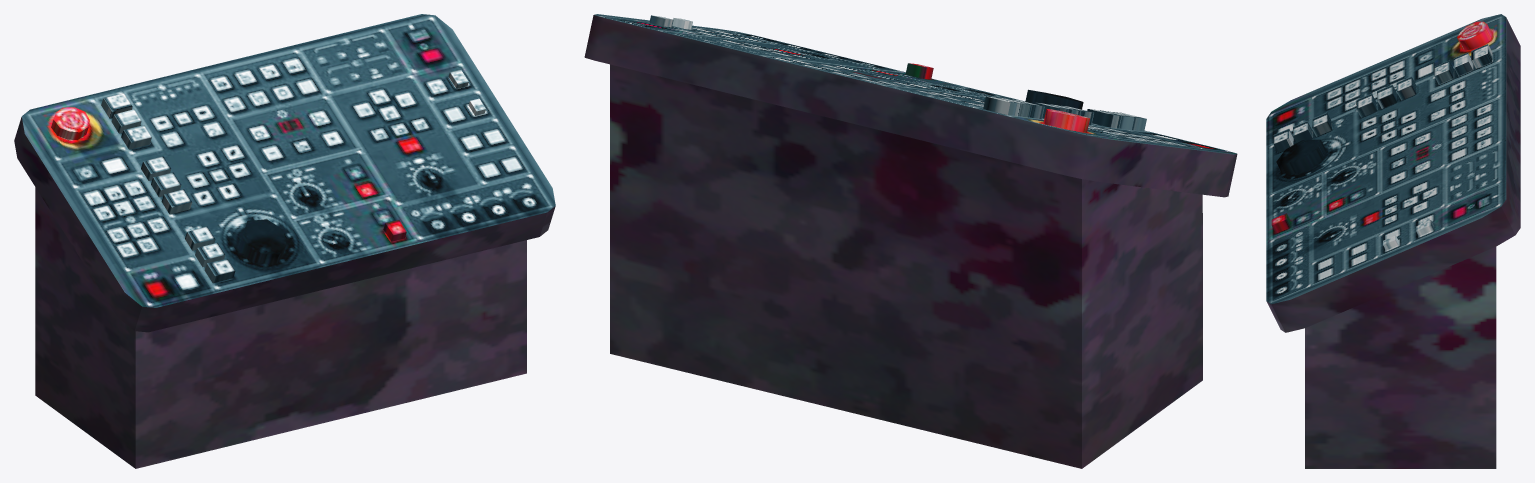
Rendered from obj_controlPanel.fbx.
3 views of the same model, side by side, from view 1: azimuth 30°, elevation 25°; view 2: azimuth 150°, elevation 25°; view 3: azimuth 270°, elevation 25° (orthographic). The views are drawn at different scales.
Visible parts, largest first — view 1: pCube74; view 2: pCube74; view 3: pCube74.
Boxes of the visible parts, x1,y1,x2,y2 form: pCube74: (14, 14, 555, 468); pCube74: (584, 14, 1237, 468); pCube74: (1266, 14, 1520, 468).
Bounding box in the file's own units: 2.38 × 1.52 × 1.28.
Materials: 1 (1 with a texture image).
